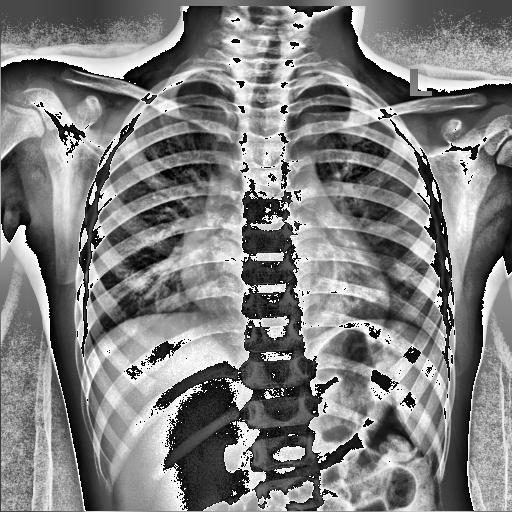3- Cardiomegaly: (180, 232, 388, 336), (180, 239, 390, 330), (178, 254, 392, 327)
